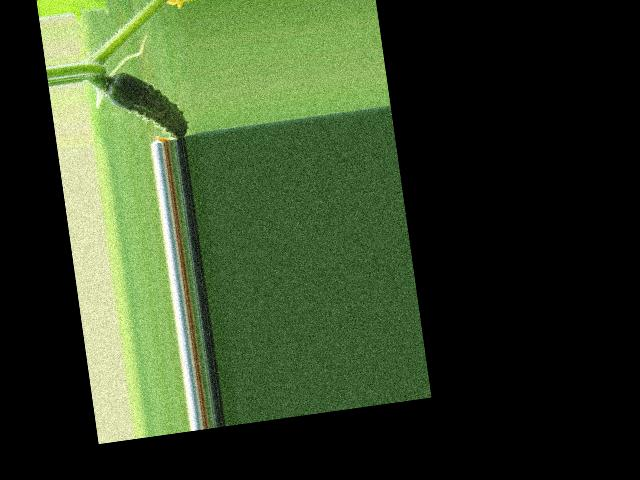cucumber: (105, 63, 190, 146)
